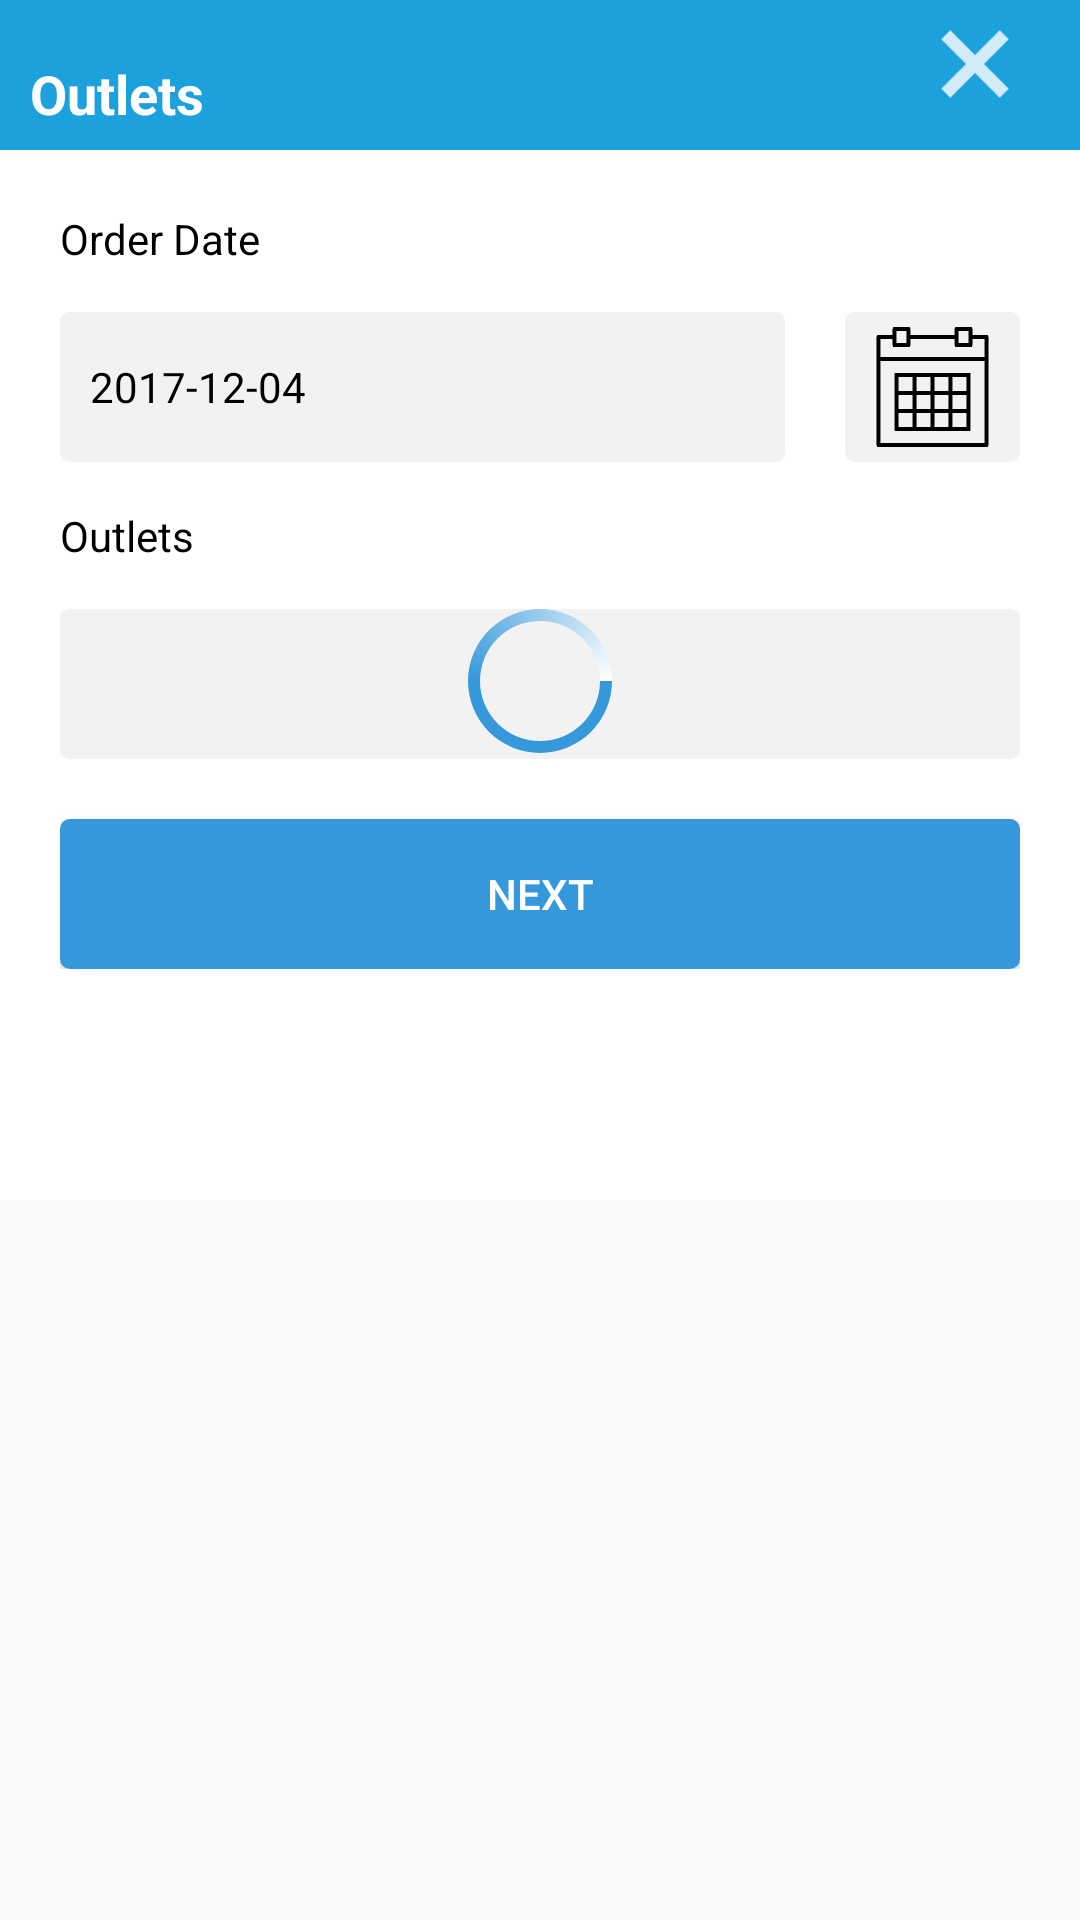

Named icons in this screenshot (1080x1920) and their bounding boxes, (x1, y1, x2, y2):
calendar: (845, 312, 1020, 462)
